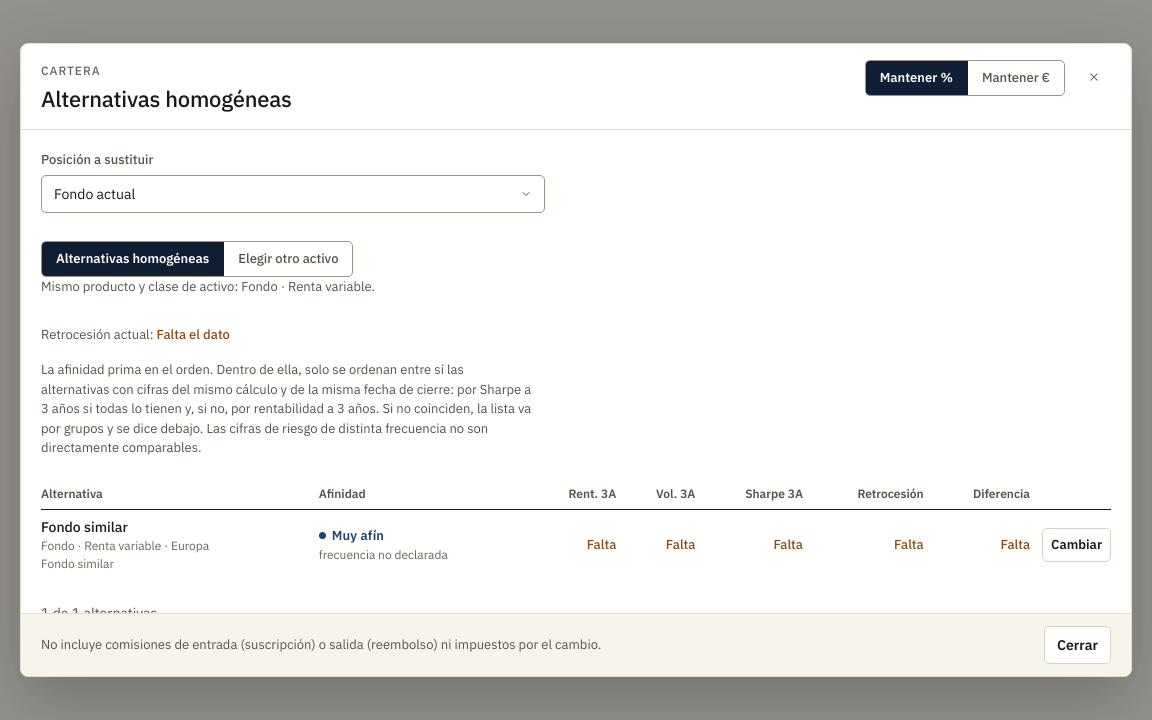
sustituir una posición › permite elegir fondos de renta fija y otro vehículo conservando el importe
Later steps or results of the test are not shown.
Click the button "Elegir otro activo" at (288, 259), box [223,242,352,276]
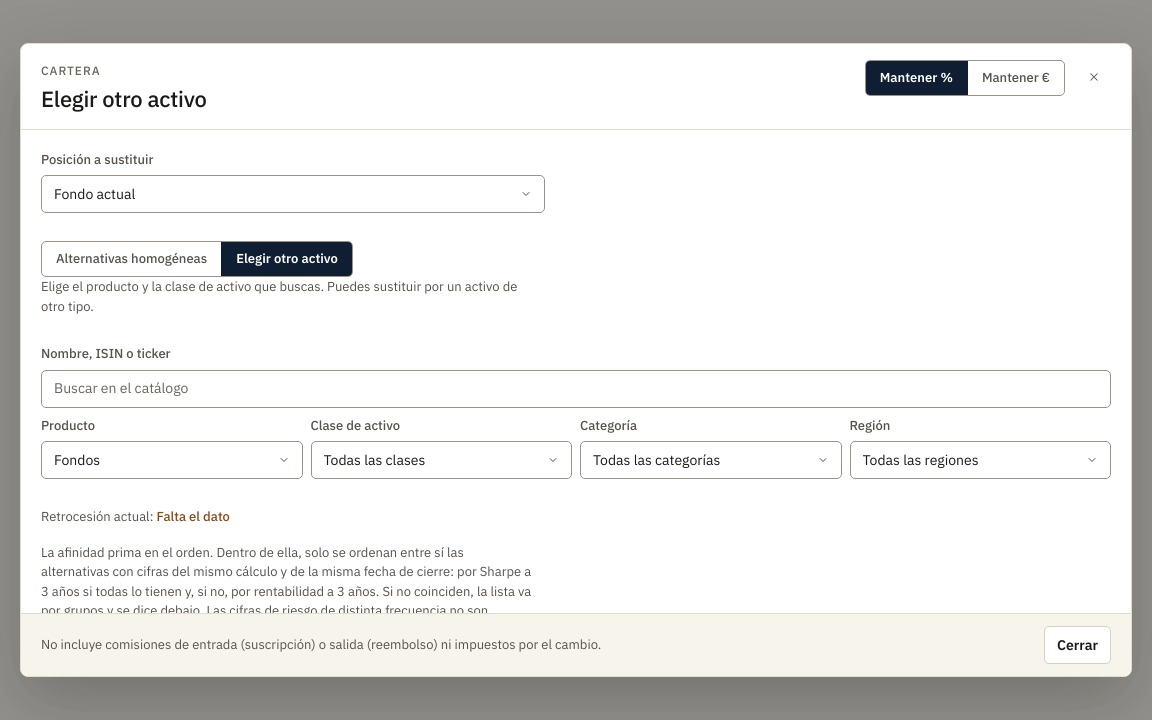
Select "Renta fija" in the dropdown labelled "Clase de activo" at (441, 460), box [310,441,572,479]
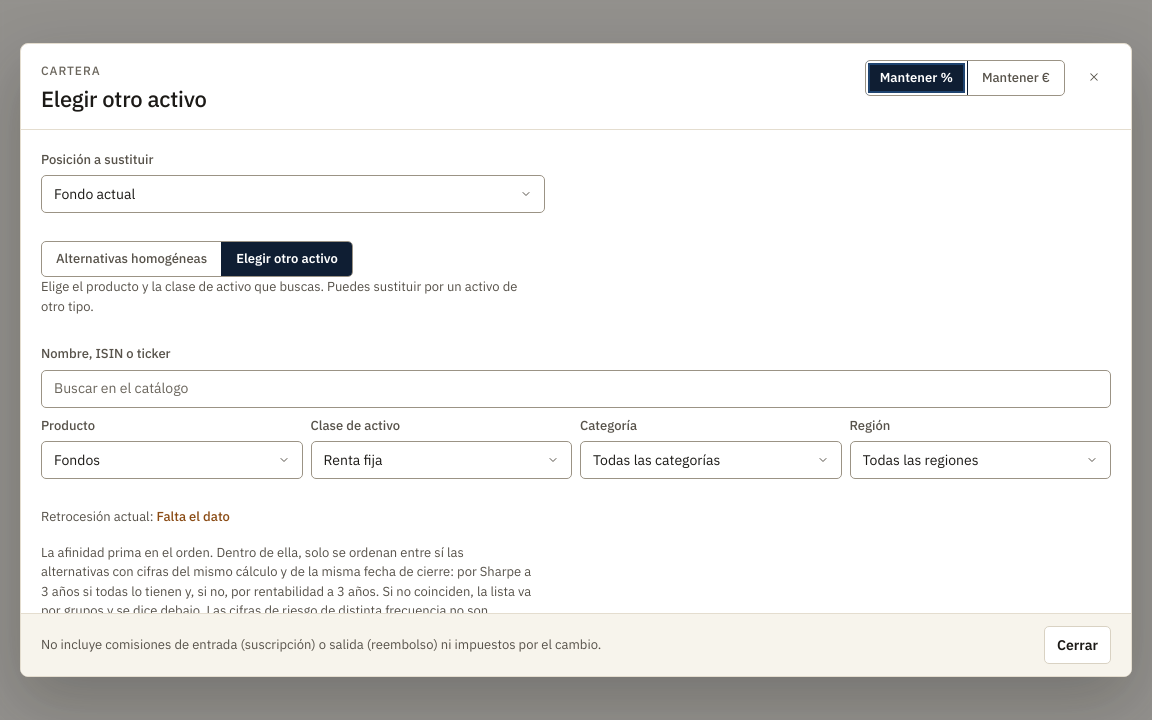
Select "Corporate" in the dropdown labelled "Categoría" at (711, 460), box [580,441,842,479]
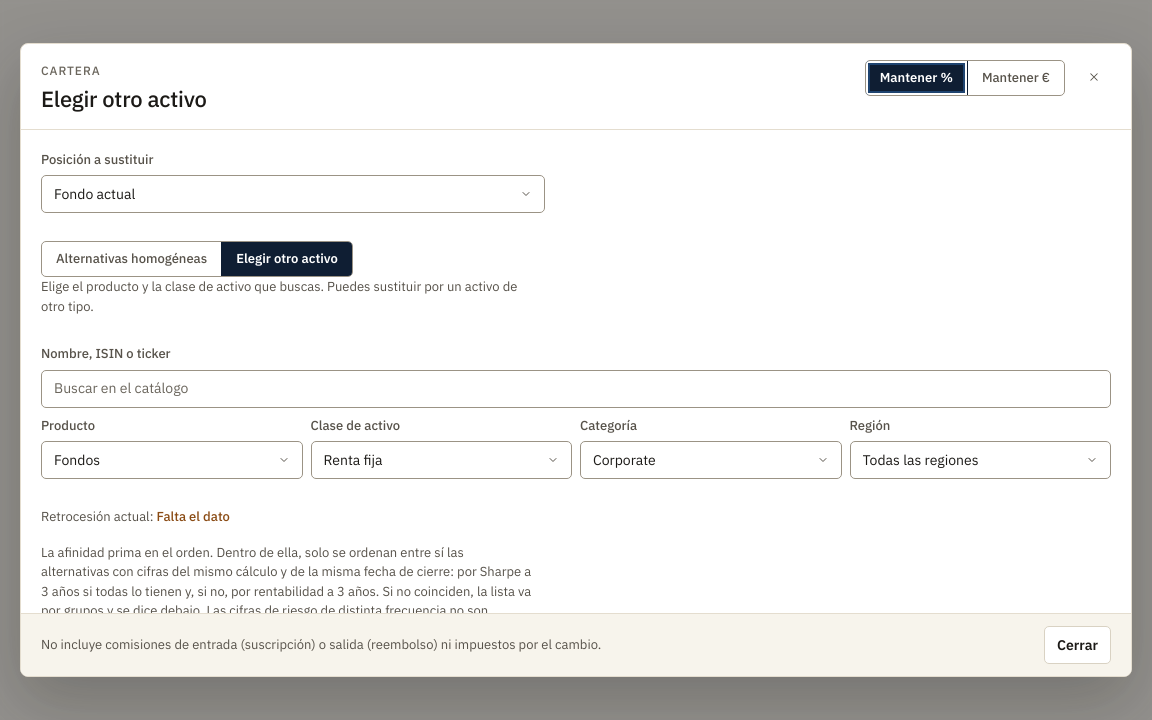
Select "ETF" in the dropdown labelled "Producto" at (172, 460), box [41,441,302,479]
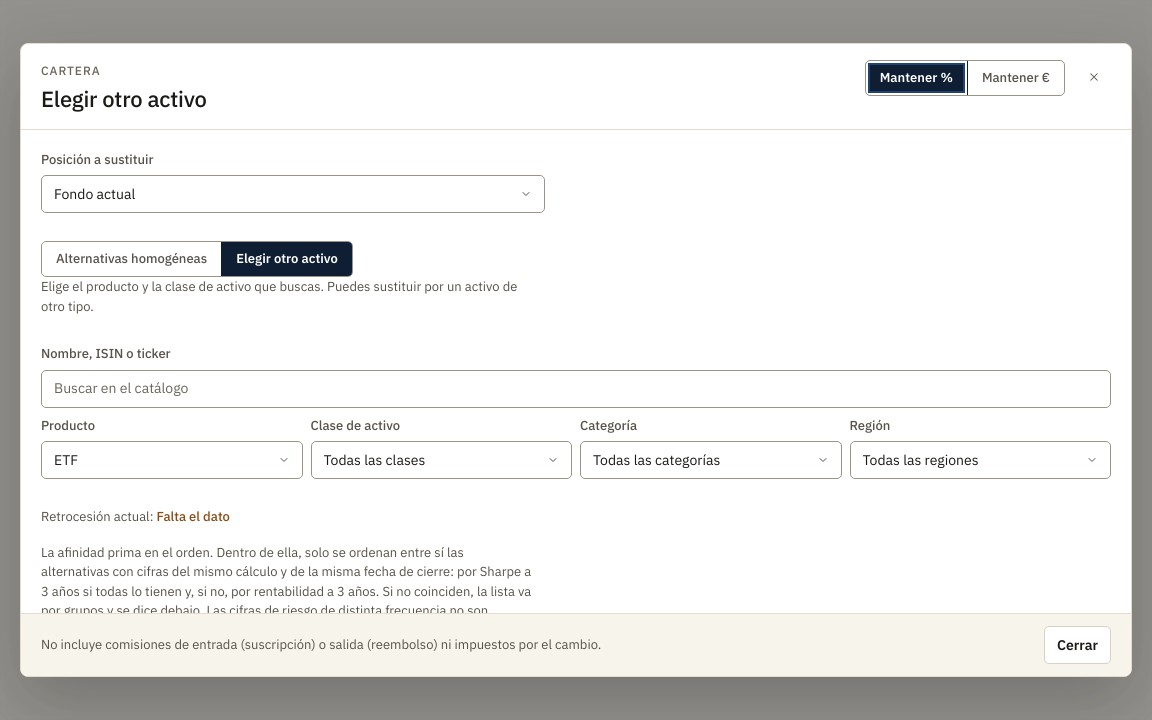
Click the button "Mantener €" at (1015, 78), box [967,61,1064,95]
(page scrolled)
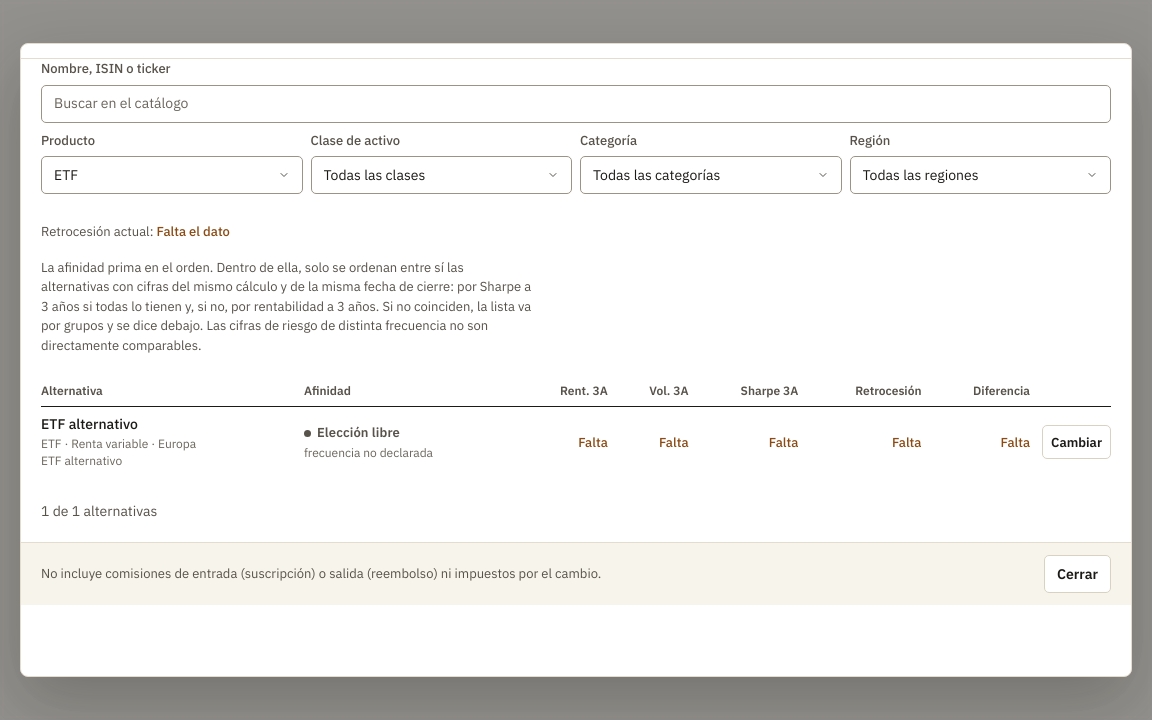
Click the button "Cambiar" at (1077, 442), box [1042,425,1111,459]
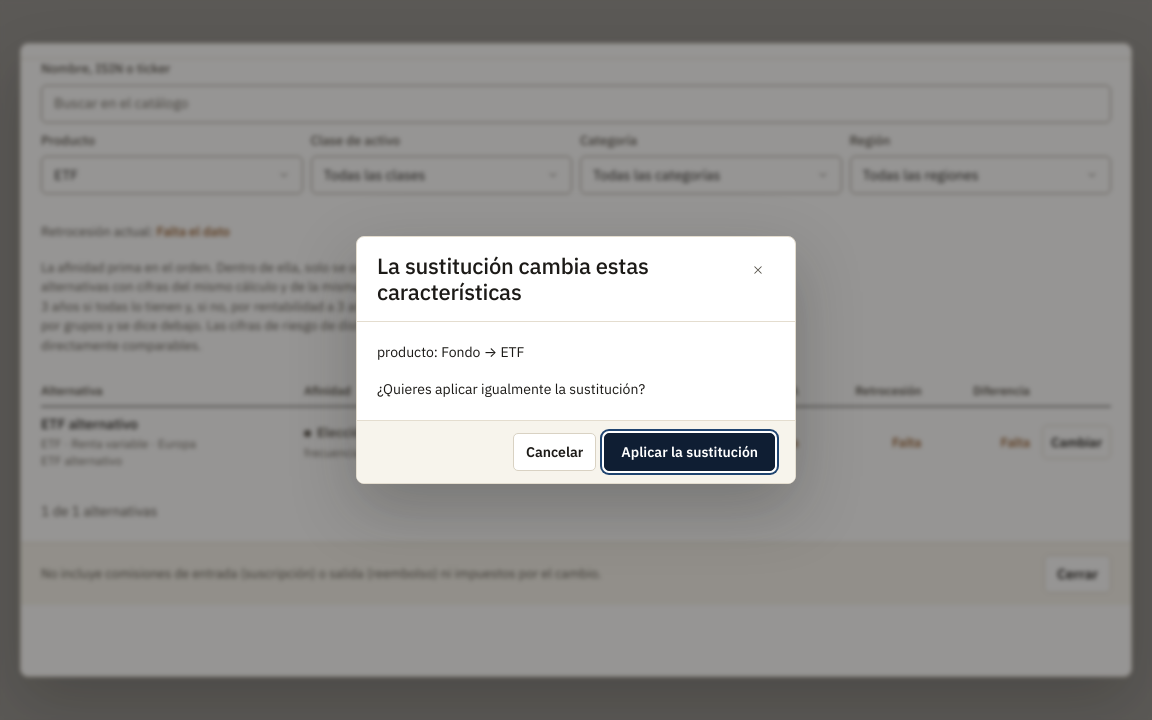
Now the dialog with class "ui-confirm-dialog" is shown, box [356,236,796,484]
Now the dialog with class "ui-confirm-dialog" shows "La sustitución cambia estas características", box [377,251,649,306]
